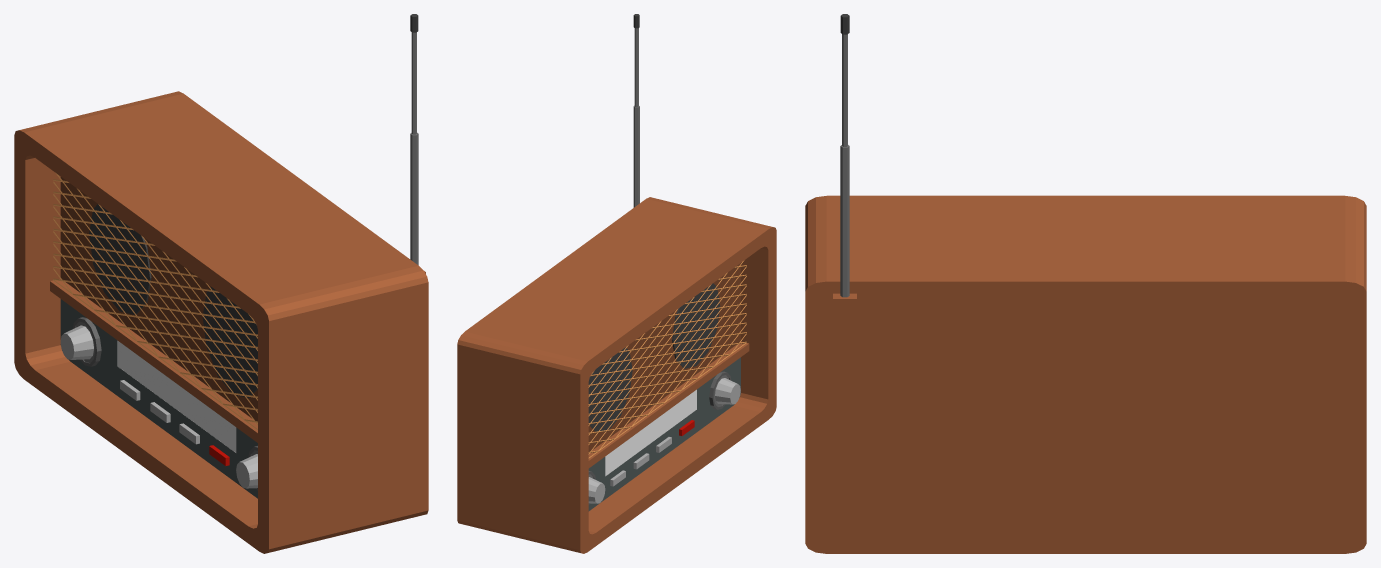
Rendered from Radio.fbx.
The picture shows the model from 3 angles, left to right: view 1: azimuth 30°, elevation 25°; view 2: azimuth 150°, elevation 25°; view 3: azimuth 270°, elevation 25°; orthographic projection. The views are drawn at different scales.
Parts seen in each view (by area): view 1: Main, Grill; view 2: Main, Grill; view 3: Main.
Boxes of the visible parts, x1=… form: Main: x1=14, y1=14, x2=428, y2=553; Grill: x1=53, y1=172, x2=257, y2=429; Main: x1=457, y1=14, x2=776, y2=553; Grill: x1=588, y1=260, x2=746, y2=458; Main: x1=805, y1=14, x2=1366, y2=553.
Bounding box in the file's own units: 76.03 × 210 × 198.
